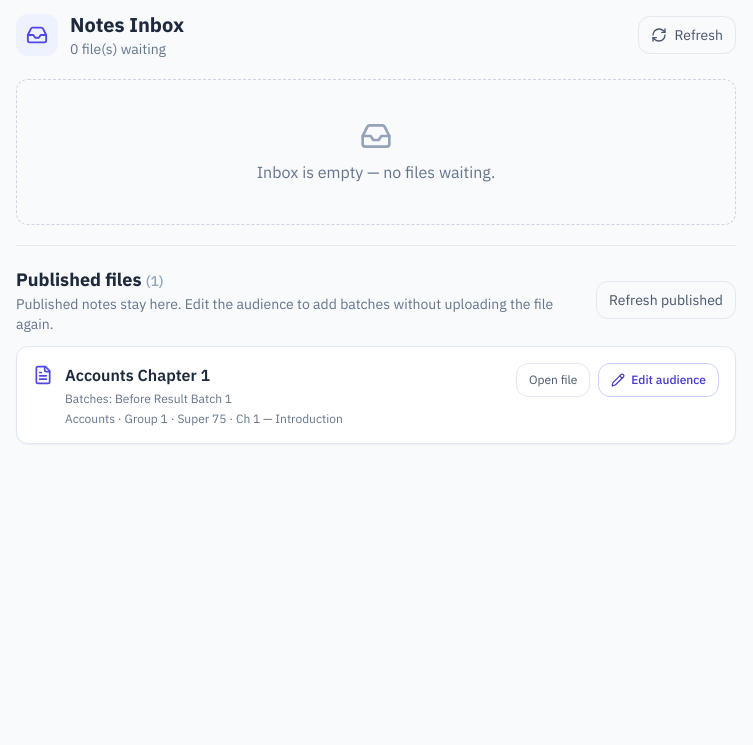
Test: editing a published note adds another batch to the same file without republishing
Click the button with test id "edit-published-note-1" at [659, 380], box [598,363,719,397]
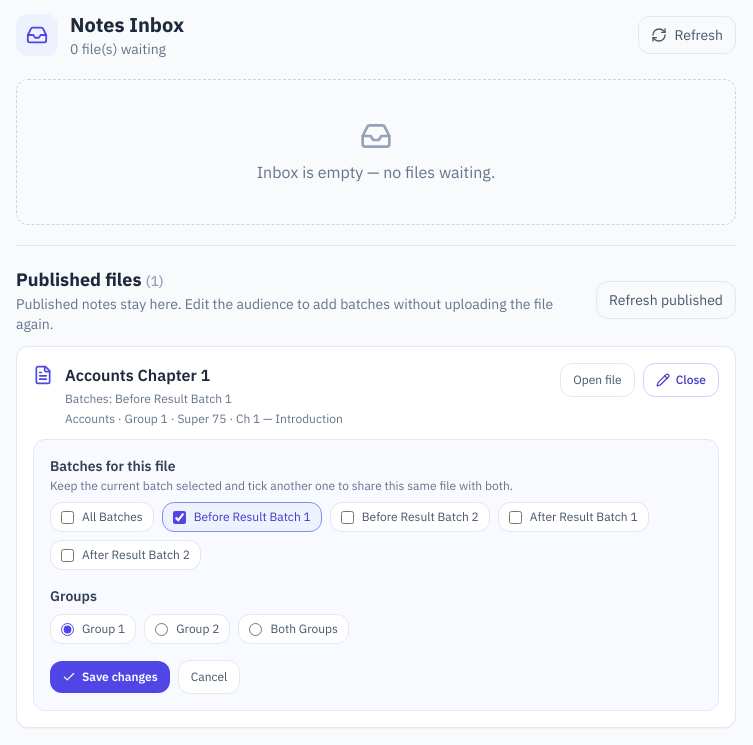
Click the checkbox labelled "Before Result Batch 2" at [347, 517], box [341,510,354,524]
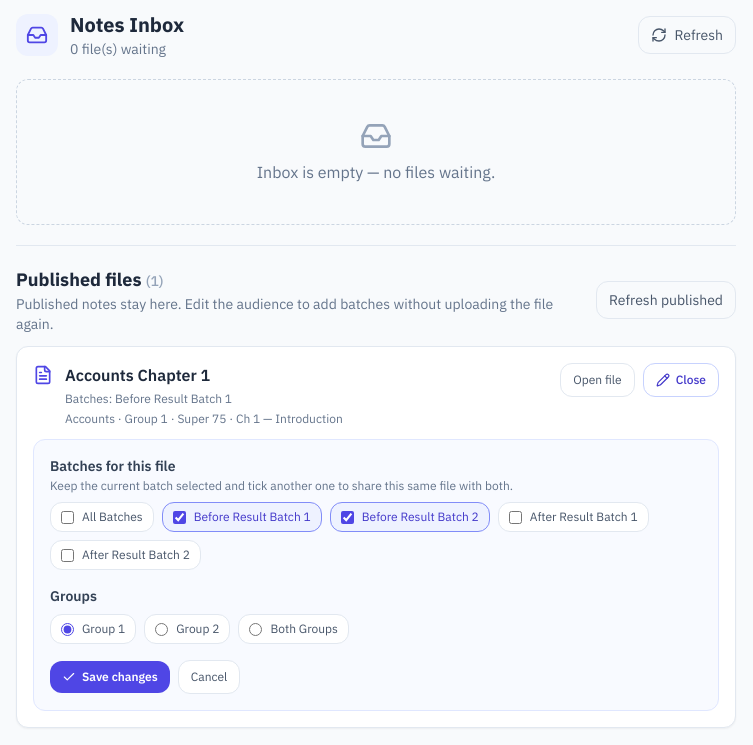
Click the button with test id "save-published-note-1" at [110, 677], box [50,661,170,693]
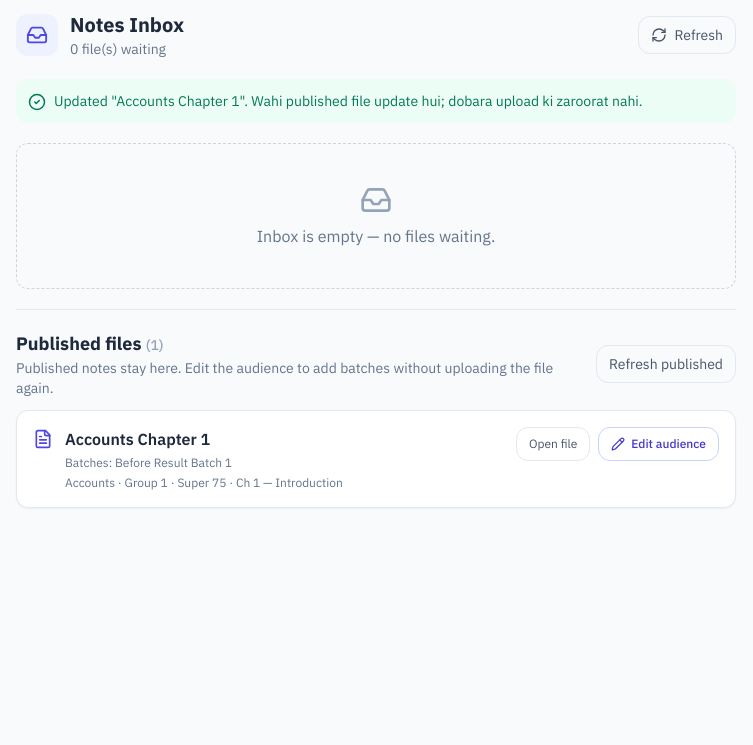
expect the text "Wahi published file update hui" is shown: met, box [54,92,643,110]
